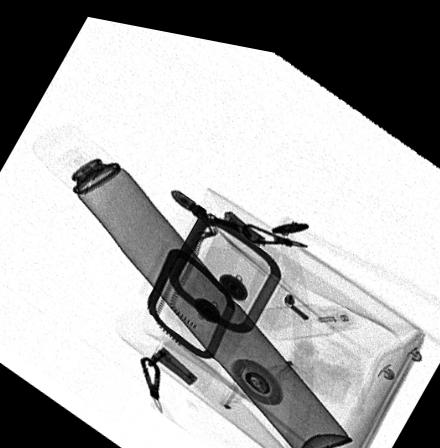Sprayer: (30, 122, 351, 447)
